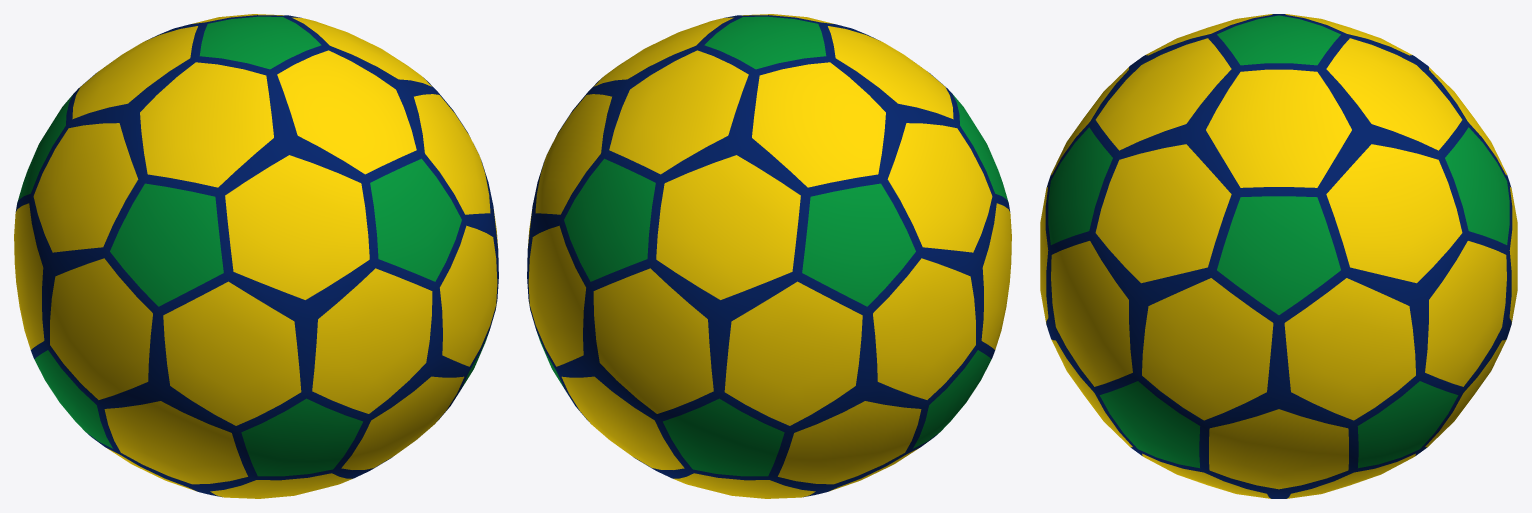
Rendered from ball.glb.
3 views of the same model, side by side, from view 1: azimuth 30°, elevation 25°; view 2: azimuth 150°, elevation 25°; view 3: azimuth 270°, elevation 25° (orthographic).
Visible parts, largest first — view 1: Icosphere; view 2: Icosphere; view 3: Icosphere.
Boxes of the visible parts, box(x1,y1,x2,y2) form: Icosphere: box(14, 14, 498, 498); Icosphere: box(527, 14, 1011, 498); Icosphere: box(1040, 14, 1517, 498).
Bounding box in the file's own units: 1.74 × 1.75 × 1.72.
